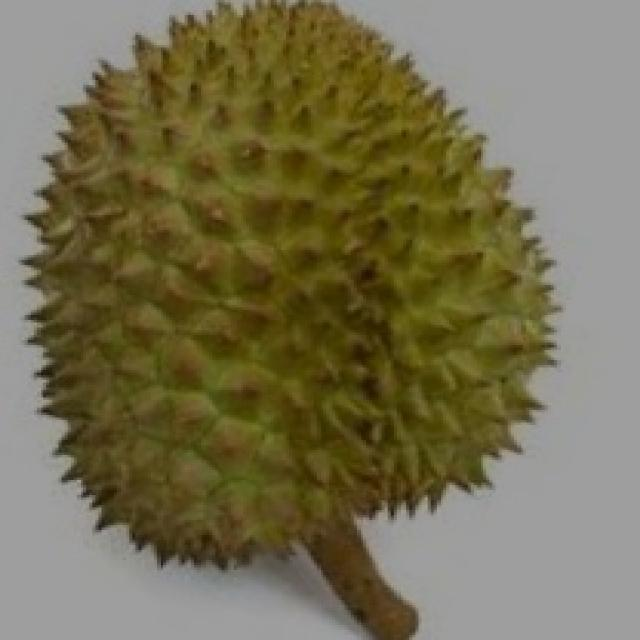fruit: (3, 238, 391, 620), (246, 192, 628, 580)
